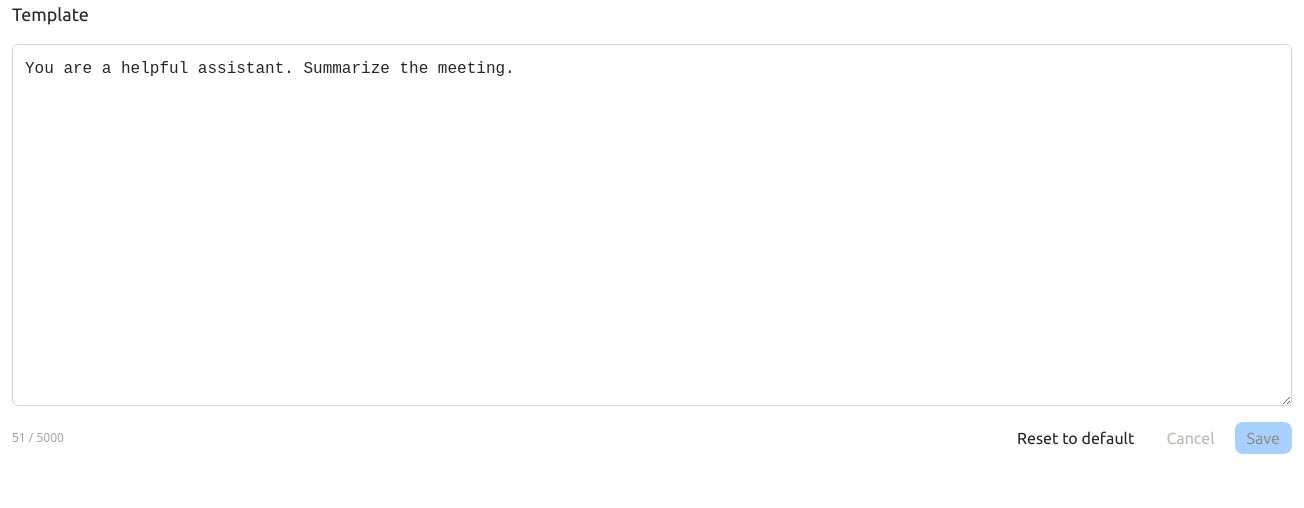
Test: TemplateSection › shows an error message when Save fails
Step 1. Type " Extra text here." into the text box → (652, 225), box [12, 44, 1292, 406]
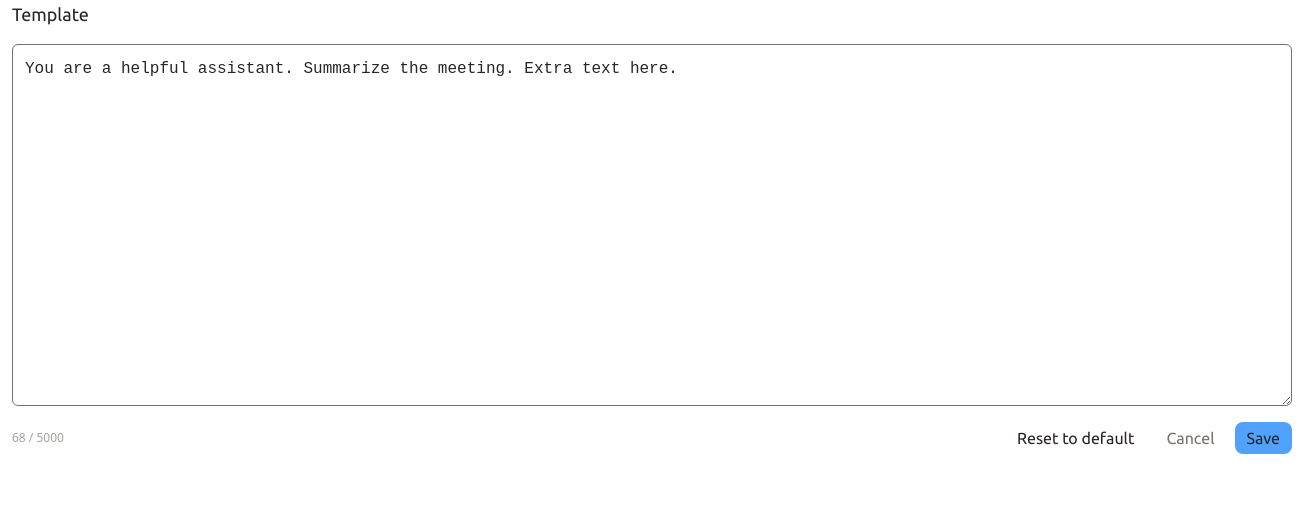
Step 2. Click the button "Save" → (1263, 438), box [1235, 422, 1292, 454]
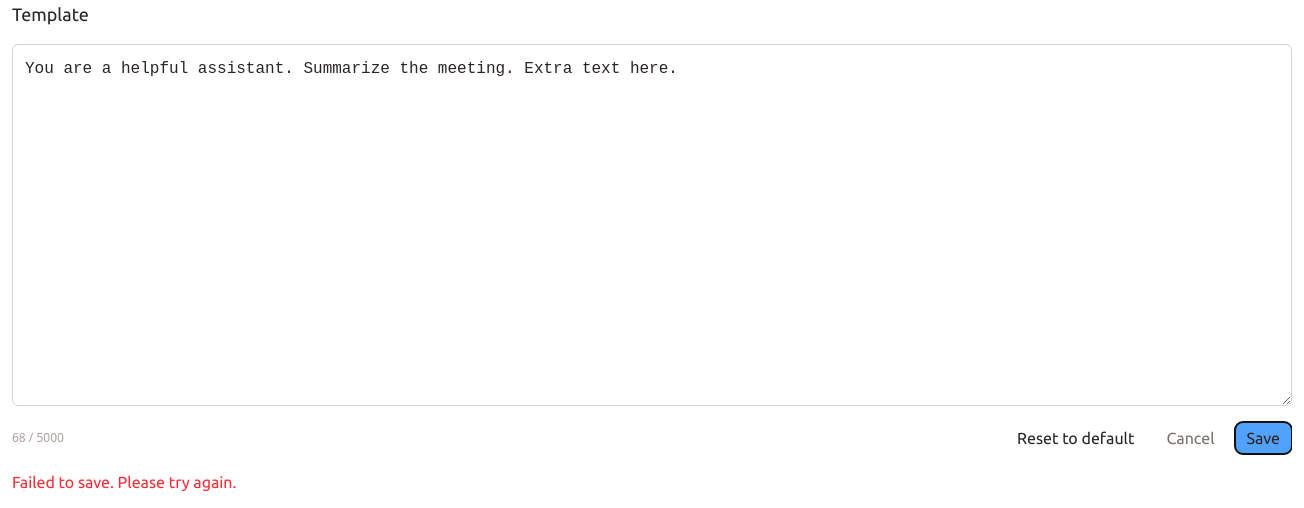
Expected: the text "Failed to save. Please try again." is shown, [12, 473, 236, 491]
